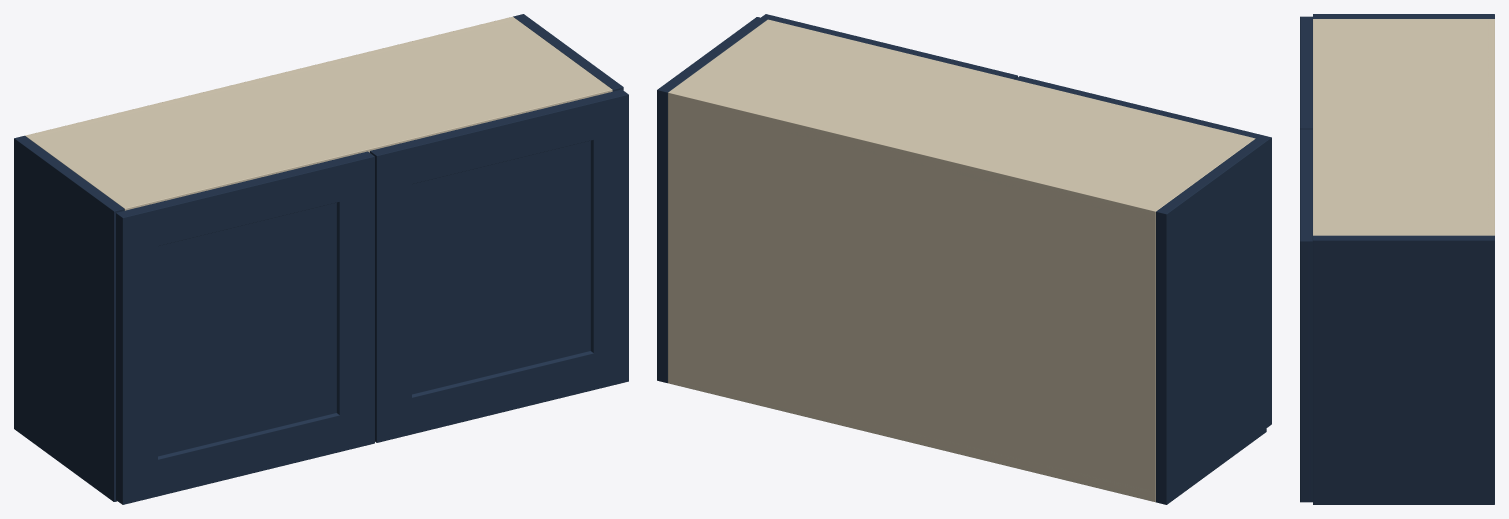
Rendered from oppein-ply-bss-w3318.glb.
3 views of the same model, side by side, from view 1: azimuth 30°, elevation 25°; view 2: azimuth 150°, elevation 25°; view 3: azimuth 270°, elevation 25° (orthographic). The views are drawn at different scales.
Visible parts, largest first — view 1: Door, Door.001, Cabinet top, Cabinet side, Cabinet back, Cabinet side.001; view 2: Cabinet back, Cabinet top, Cabinet side, Cabinet side.001, Door, Cabinet bottom, Door.001; view 3: Cabinet side.001, Cabinet top, Door.001, Cabinet back, Door, Cabinet side.
Boxes of the visible parts, x1,y1,x2,y2 form: Door: (116, 151, 374, 504); Door.001: (370, 89, 628, 442); Cabinet top: (29, 17, 612, 210); Cabinet side: (14, 135, 124, 501); Cabinet back: (25, 16, 515, 138); Cabinet side.001: (513, 14, 623, 91); Cabinet back: (668, 91, 1158, 502); Cabinet top: (668, 19, 1255, 221); Cabinet side: (1156, 138, 1266, 504); Cabinet side.001: (657, 17, 767, 383); Door: (1015, 76, 1271, 427); Cabinet bottom: (668, 373, 1155, 501); Door.001: (761, 14, 1017, 79); Cabinet side.001: (1313, 235, 1494, 504); Cabinet top: (1313, 19, 1494, 235); Door.001: (1300, 129, 1312, 502); Cabinet back: (1487, 19, 1494, 235); Door: (1300, 16, 1312, 129); Cabinet side: (1313, 14, 1494, 18).
Size of the model in its own units: 0.8382 by 0.4572 by 0.3048.
